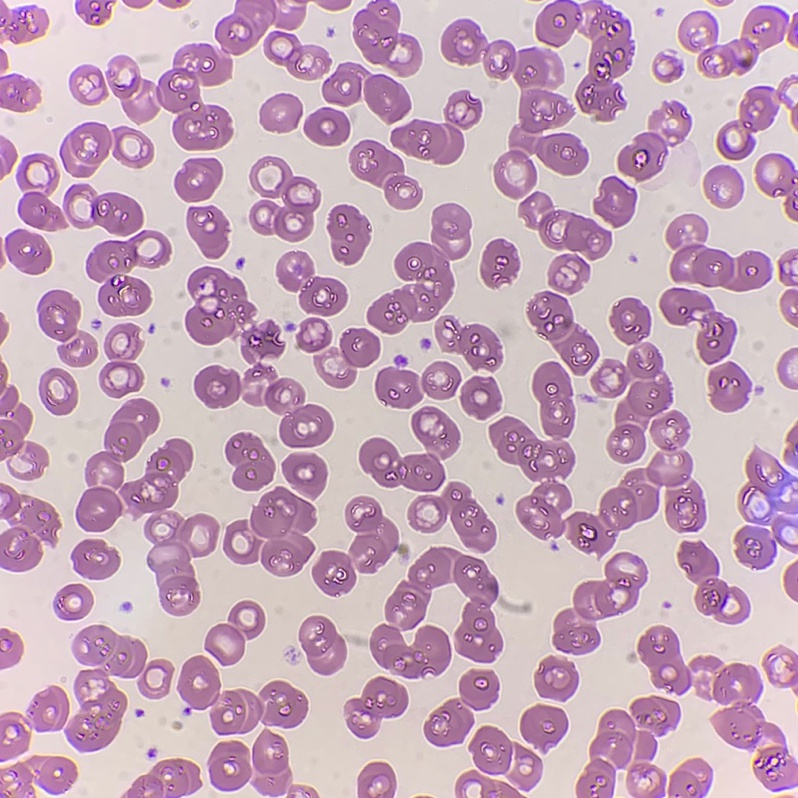RBC: (76, 399, 218, 615), (638, 626, 797, 789), (441, 20, 587, 197), (568, 411, 691, 553), (385, 547, 502, 662), (367, 204, 470, 333), (67, 625, 172, 751), (108, 45, 231, 149), (535, 0, 631, 121), (577, 696, 679, 797), (489, 417, 574, 538), (178, 656, 307, 734), (553, 552, 646, 654), (591, 343, 670, 462), (185, 267, 283, 359), (223, 487, 314, 576), (666, 214, 770, 290), (86, 230, 170, 315), (391, 91, 481, 164), (519, 193, 611, 258), (698, 9, 785, 77), (408, 482, 495, 550), (250, 157, 320, 241), (678, 542, 749, 623), (529, 292, 597, 374), (424, 670, 498, 745), (618, 103, 690, 180), (660, 288, 734, 362), (0, 485, 59, 571), (354, 1, 421, 76), (717, 86, 784, 159), (350, 140, 421, 208), (216, 0, 305, 53), (264, 378, 332, 447), (346, 497, 407, 572), (359, 438, 444, 491), (276, 252, 346, 315), (370, 626, 450, 677), (66, 184, 142, 235), (344, 677, 407, 737), (205, 601, 264, 664), (435, 316, 501, 369), (0, 756, 76, 797), (264, 32, 329, 79), (533, 362, 573, 437), (328, 329, 379, 387), (226, 433, 274, 490), (127, 759, 199, 797), (61, 123, 111, 177), (299, 616, 345, 674), (756, 154, 797, 219), (0, 377, 31, 459), (252, 731, 291, 795), (739, 450, 782, 505), (329, 205, 369, 263), (412, 407, 459, 456), (364, 75, 410, 122), (39, 290, 80, 340), (187, 207, 227, 258), (5, 230, 51, 274), (175, 158, 222, 201), (520, 705, 567, 748), (209, 741, 250, 790), (470, 726, 512, 773), (594, 177, 635, 225), (708, 363, 749, 411), (194, 366, 241, 407), (282, 454, 326, 497), (72, 539, 119, 579), (666, 483, 705, 531), (534, 657, 577, 699), (610, 298, 650, 343), (375, 368, 420, 408), (0, 3, 47, 41), (313, 551, 354, 594), (28, 686, 68, 730), (481, 239, 518, 286), (19, 192, 64, 230), (40, 368, 77, 414), (304, 108, 349, 145), (735, 526, 775, 567), (322, 63, 361, 105), (461, 377, 500, 418), (260, 94, 302, 132), (669, 759, 711, 797), (114, 127, 153, 167), (704, 166, 741, 207), (100, 361, 142, 397), (549, 255, 589, 292), (764, 647, 797, 691), (679, 11, 716, 50), (18, 154, 58, 190), (0, 713, 29, 760), (422, 362, 459, 398), (0, 77, 39, 111), (510, 747, 541, 789), (70, 68, 106, 104), (55, 584, 92, 619), (358, 762, 395, 797), (105, 324, 141, 359), (59, 333, 96, 366), (297, 318, 331, 351), (0, 629, 22, 668), (25, 443, 47, 477), (481, 778, 519, 797), (79, 0, 109, 24), (653, 56, 680, 81), (0, 138, 16, 175), (781, 290, 797, 325), (456, 772, 478, 796), (245, 365, 275, 381), (784, 427, 797, 461), (785, 563, 797, 599), (318, 0, 350, 9), (126, 0, 148, 7), (246, 394, 260, 404), (162, 0, 185, 6), (783, 251, 795, 262), (0, 51, 7, 69), (0, 322, 7, 338), (781, 273, 791, 283), (792, 106, 797, 124), (314, 355, 323, 364), (792, 14, 797, 27), (791, 35, 797, 45), (0, 364, 5, 375)
